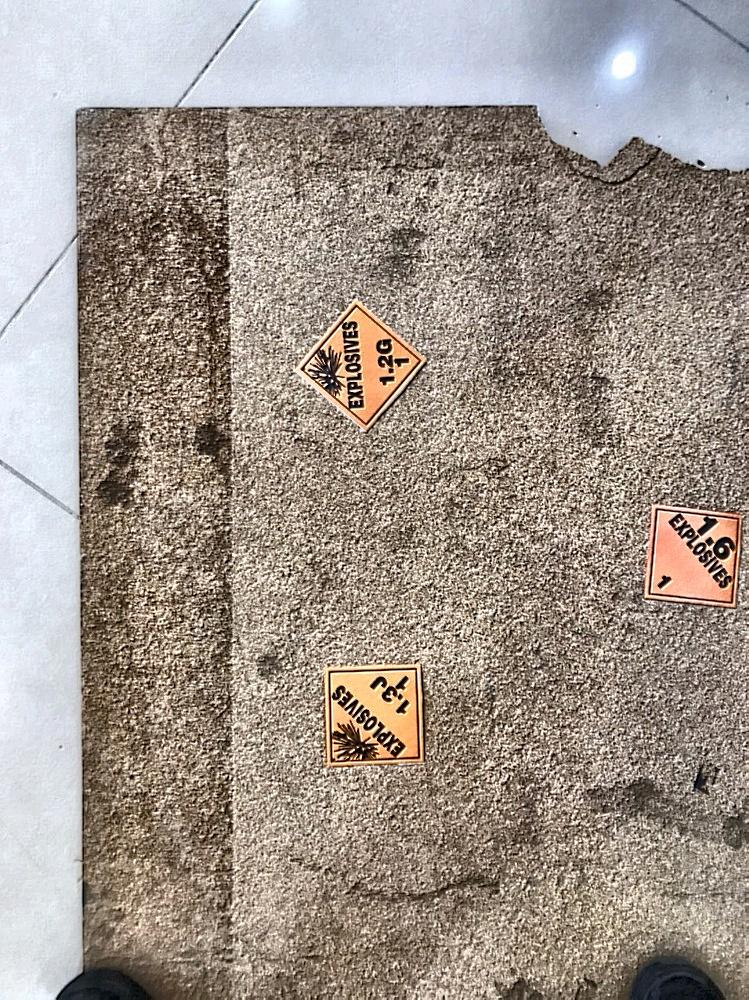explosive: (296, 299, 433, 433), (643, 504, 747, 613), (323, 665, 426, 766)
